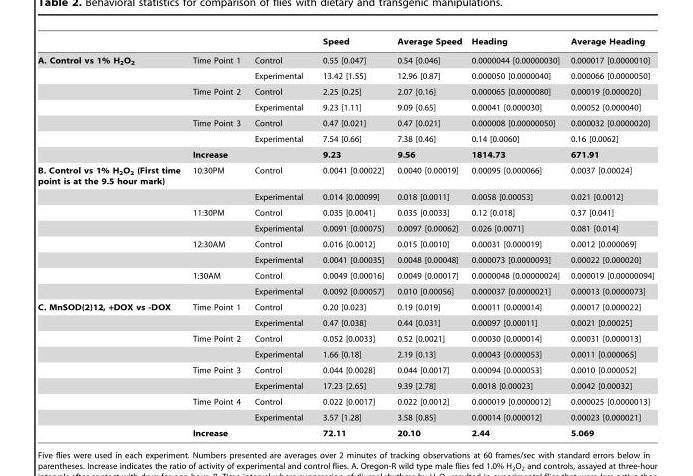table: (37, 36, 653, 437)
table column: (37, 36, 185, 437), (466, 36, 564, 437), (564, 36, 653, 437), (312, 36, 389, 437), (389, 36, 466, 437), (246, 36, 312, 437), (185, 36, 246, 437)
table column header: (37, 36, 653, 50)
table row: (37, 162, 653, 188), (37, 50, 653, 68), (37, 297, 653, 315), (37, 83, 653, 99), (37, 99, 653, 115), (37, 130, 653, 146), (37, 146, 653, 162), (37, 188, 653, 204), (37, 204, 653, 220), (37, 220, 653, 236), (37, 251, 653, 267), (37, 267, 653, 283), (37, 330, 653, 346), (37, 346, 653, 362), (37, 377, 653, 393), (37, 393, 653, 409), (37, 409, 653, 425), (37, 68, 653, 83), (37, 115, 653, 130), (37, 236, 653, 251), (37, 315, 653, 330), (37, 362, 653, 377), (37, 36, 653, 50), (37, 283, 653, 297), (37, 425, 653, 437)
table spanning cell: (37, 297, 185, 437), (37, 162, 185, 297), (37, 50, 185, 162)
